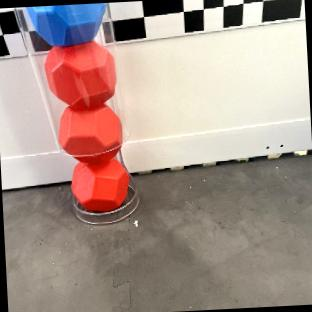V5_BLUE: (27, 3, 105, 44)
V5_RED: (44, 39, 116, 108), (56, 102, 121, 156), (71, 157, 128, 211)
